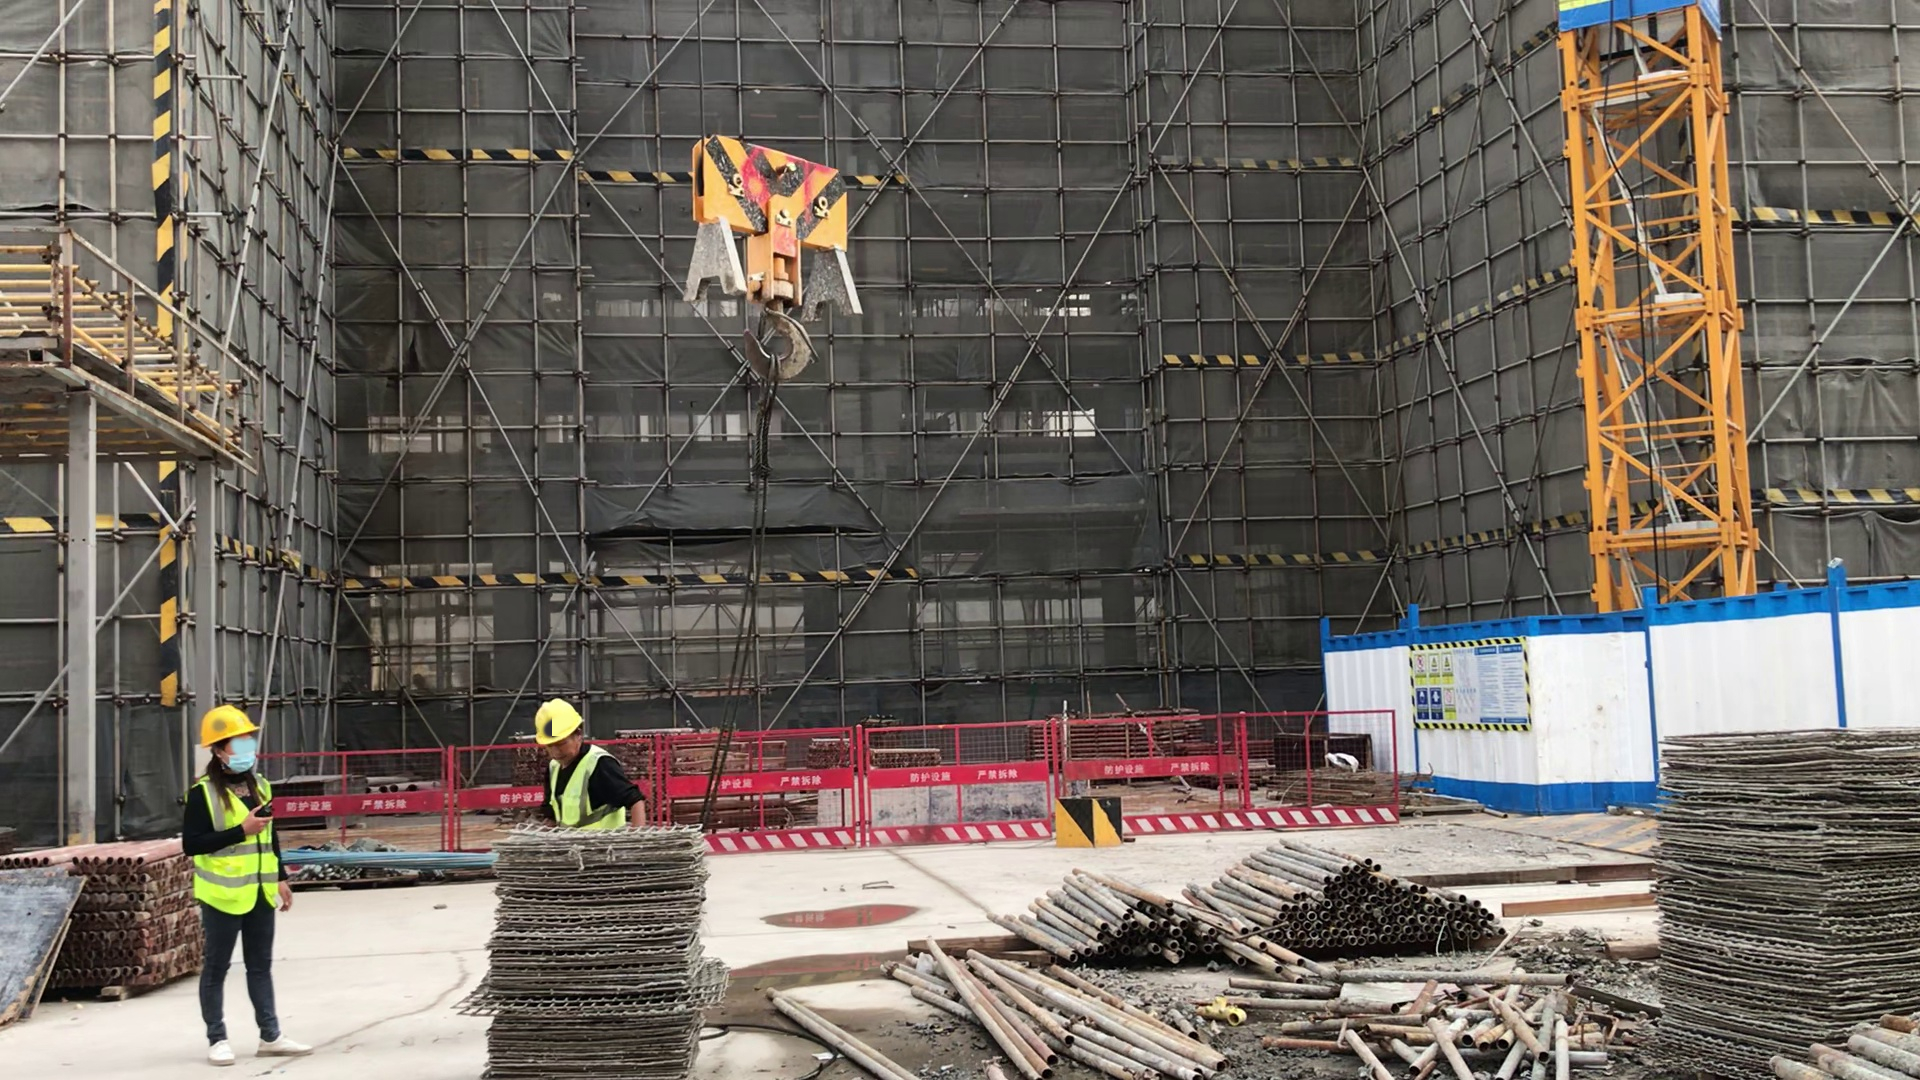fence: (664, 709, 1399, 833), (276, 753, 508, 851)
helmet: (192, 705, 267, 741), (533, 700, 583, 744)
hook: (679, 123, 867, 402)
person: (179, 700, 315, 1072), (519, 687, 648, 836)
scaffold: (1196, 839, 1513, 966), (4, 839, 190, 995), (999, 858, 1207, 985)
slogan: (1398, 640, 1535, 734)
vest: (196, 777, 283, 925), (544, 756, 625, 832)
